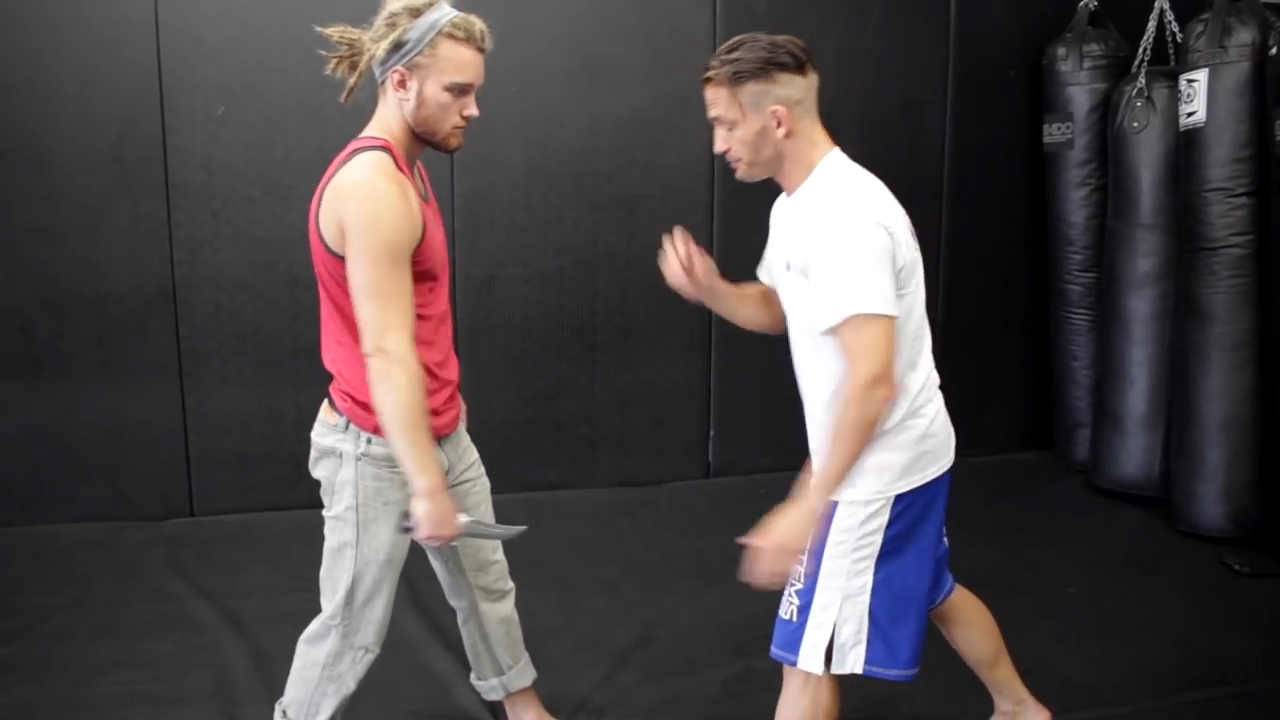knife: (389, 498, 543, 555)
